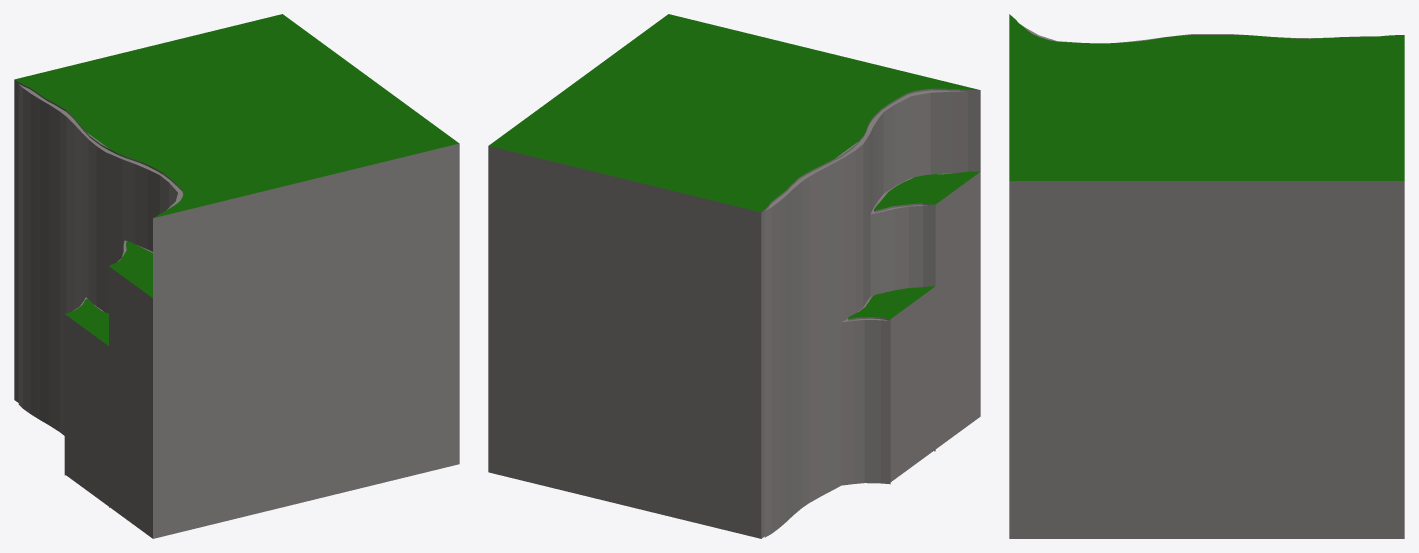
Rendered from MTSWedge.fbx.
3 views of the same model, side by side, from view 1: azimuth 30°, elevation 25°; view 2: azimuth 150°, elevation 25°; view 3: azimuth 270°, elevation 25° (orthographic). The views are drawn at different scales.
Parts seen in each view (by area): view 1: Plane.019; view 2: Plane.019; view 3: Plane.019.
Boxes of the visible parts, x1,y1,x2,y2 form: Plane.019: [14, 14, 459, 538]; Plane.019: [488, 14, 980, 538]; Plane.019: [1009, 14, 1404, 538].
Size of the model in its own units: 100 by 101 by 100.
